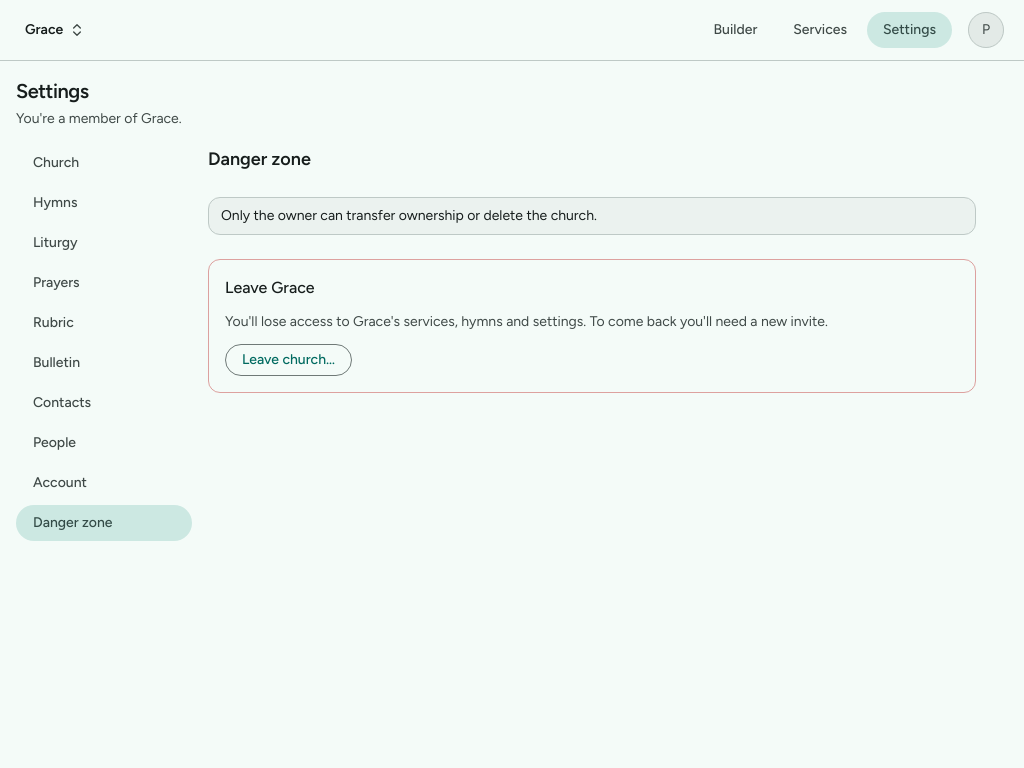
Test case: Settings → Danger zone: admins and members (slice 6b-2b) › leaves after asking, says so, drops the draft and moves to the next church with no access toast
Click the button "Leave church…" at (288, 360), box [225,344,352,376]
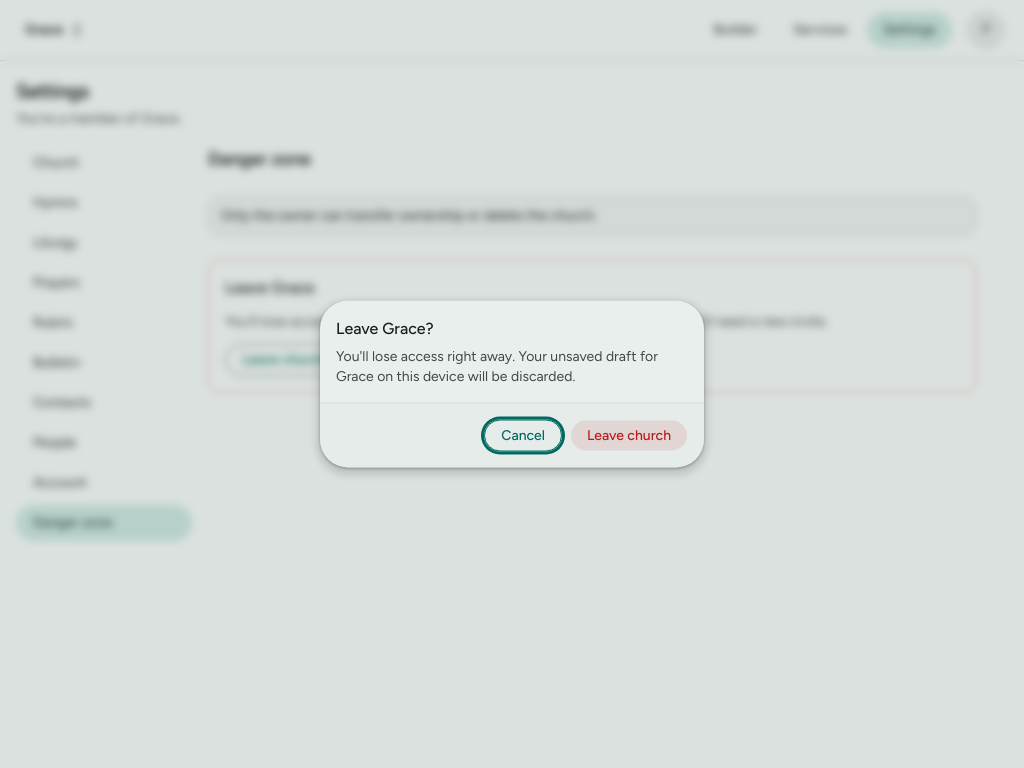
Click the button "Leave church" at (629, 436), box [570,420,688,452]
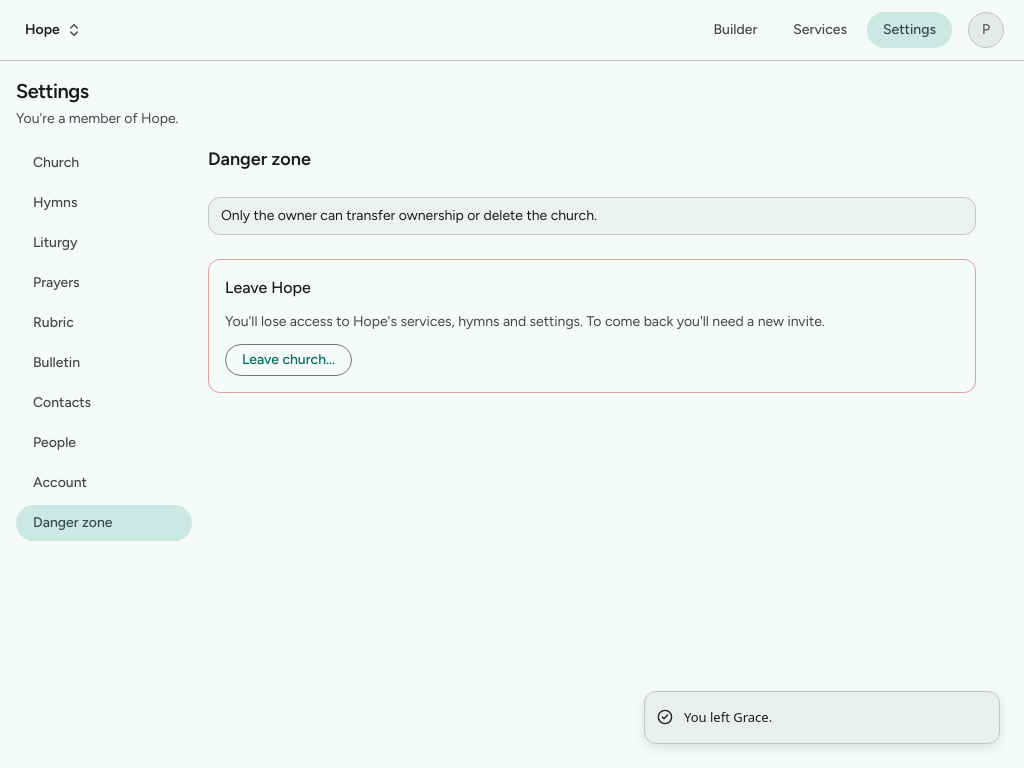
Result: the text "You left Grace." is shown at [684,708,772,727]
Result: the heading "Leave Hope" is shown at [225,278,311,297]
